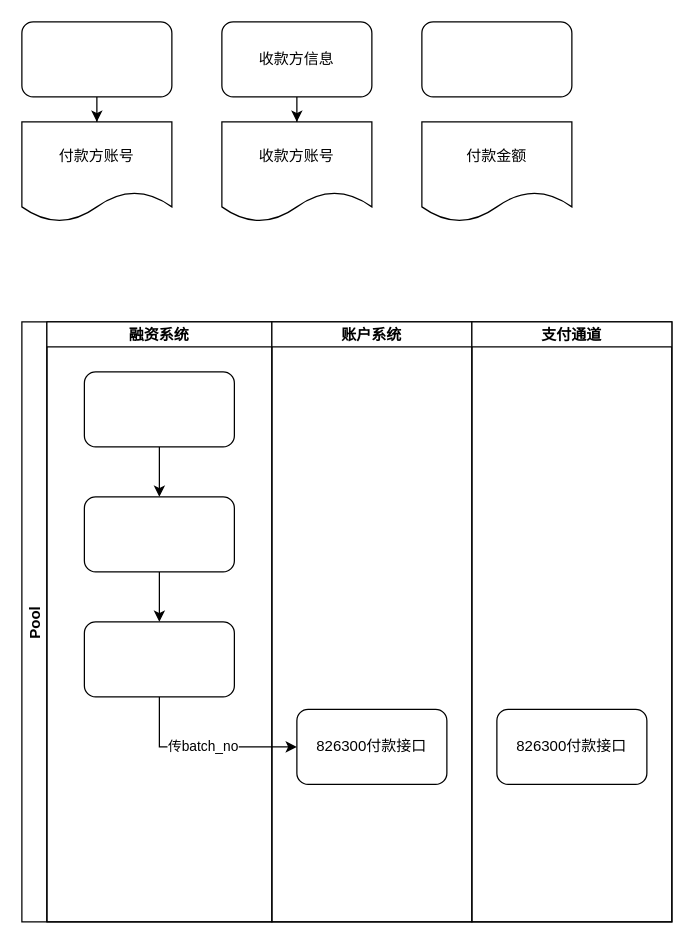
The diagram is 694 pixels wide and 944 high, and some of its shapes have lost their labels. The box of each missing label's shape, as (x1, y1, x2, y2) in pixels:
付款信息: (421, 21, 572, 97)
付款方信息: (21, 21, 172, 97)
企业微信审核: (83, 496, 234, 572)
内管端复审: (83, 621, 234, 697)
赎回资产（放款） 提交: (83, 371, 234, 447)
